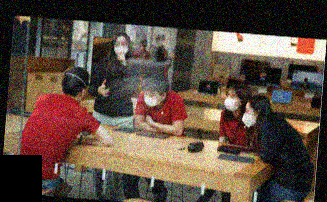with_mask: (240, 106, 255, 128), (142, 90, 161, 106), (223, 92, 239, 110), (112, 39, 128, 54)
